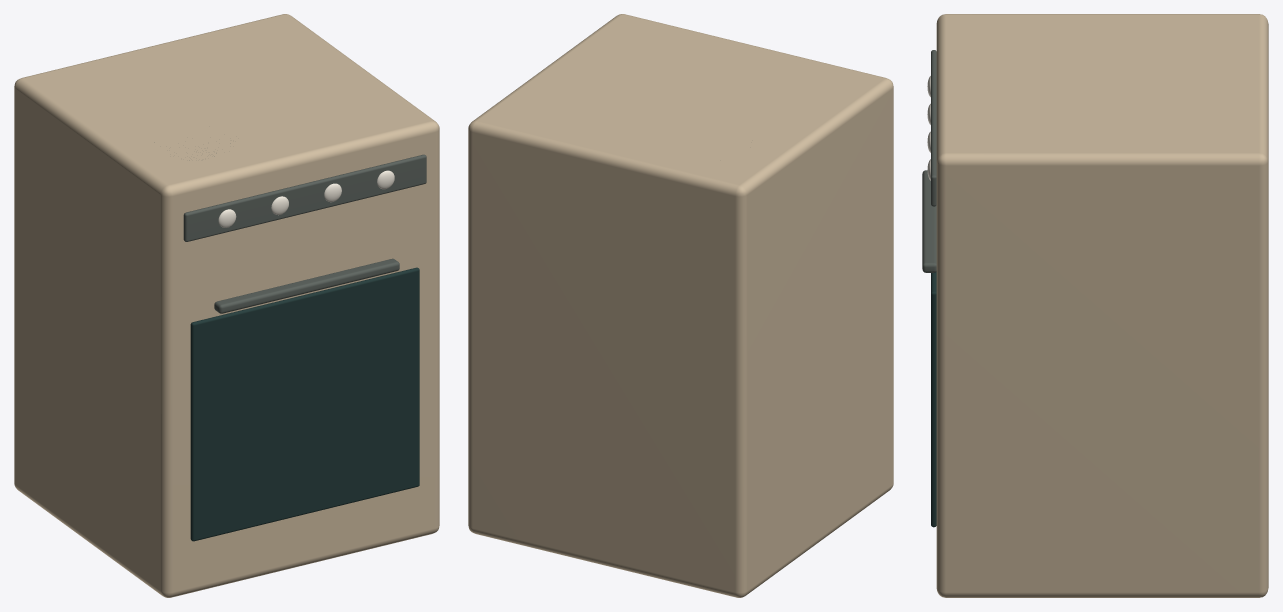
3 views of the same model, side by side, from view 1: azimuth 30°, elevation 25°; view 2: azimuth 150°, elevation 25°; view 3: azimuth 270°, elevation 25° (orthographic). The views are drawn at different scales.
Visible parts, largest first — view 1: body, oven, control, oven_handle; view 2: body; view 3: body, oven, oven_handle, control.
Boxes of the visible parts, <box> form: body: <box>14,14,439,597</box>; oven: <box>190,267,419,541</box>; control: <box>183,154,426,241</box>; oven_handle: <box>214,258,399,313</box>; body: <box>468,14,893,597</box>; body: <box>936,14,1268,597</box>; oven: <box>931,272,936,527</box>; oven_handle: <box>922,170,936,272</box>; control: <box>931,50,936,206</box>.
Bounding box in the file's own units: 0.6 × 0.85 × 0.6.
